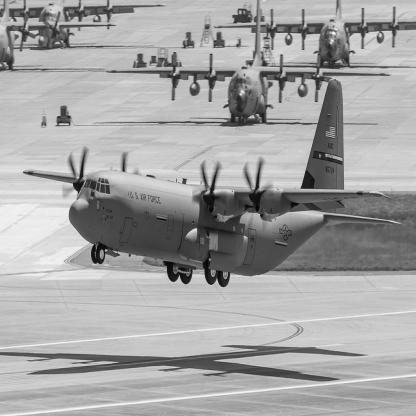C130: (24, 78, 403, 288), (107, 2, 392, 127), (214, 2, 416, 71), (1, 2, 119, 71), (2, 2, 168, 50)
